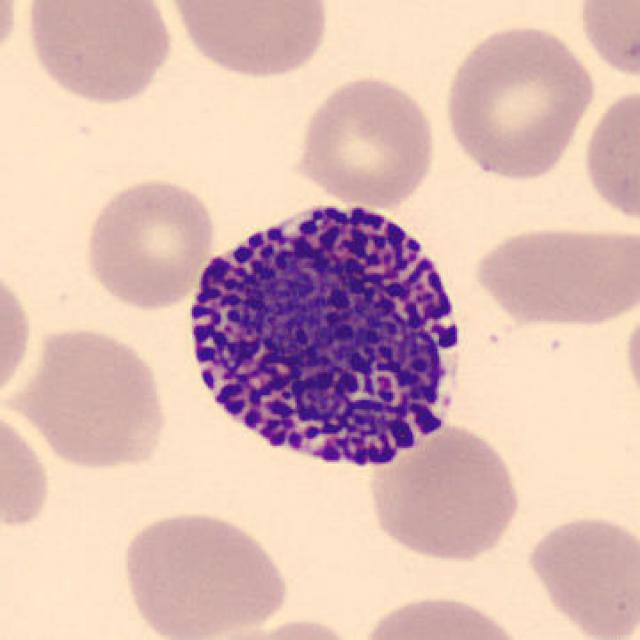Basophil: (171, 183, 484, 487)
RBC: (439, 20, 599, 184), (7, 322, 173, 472), (115, 504, 294, 638), (362, 420, 524, 564), (290, 71, 441, 208), (80, 173, 219, 314), (469, 218, 635, 329), (21, 0, 178, 108), (521, 509, 640, 640), (160, 0, 332, 81), (356, 589, 530, 640), (580, 81, 638, 228), (0, 401, 53, 541), (572, 0, 638, 85), (0, 259, 36, 411), (181, 613, 367, 640), (622, 296, 640, 416), (0, 0, 23, 78)
